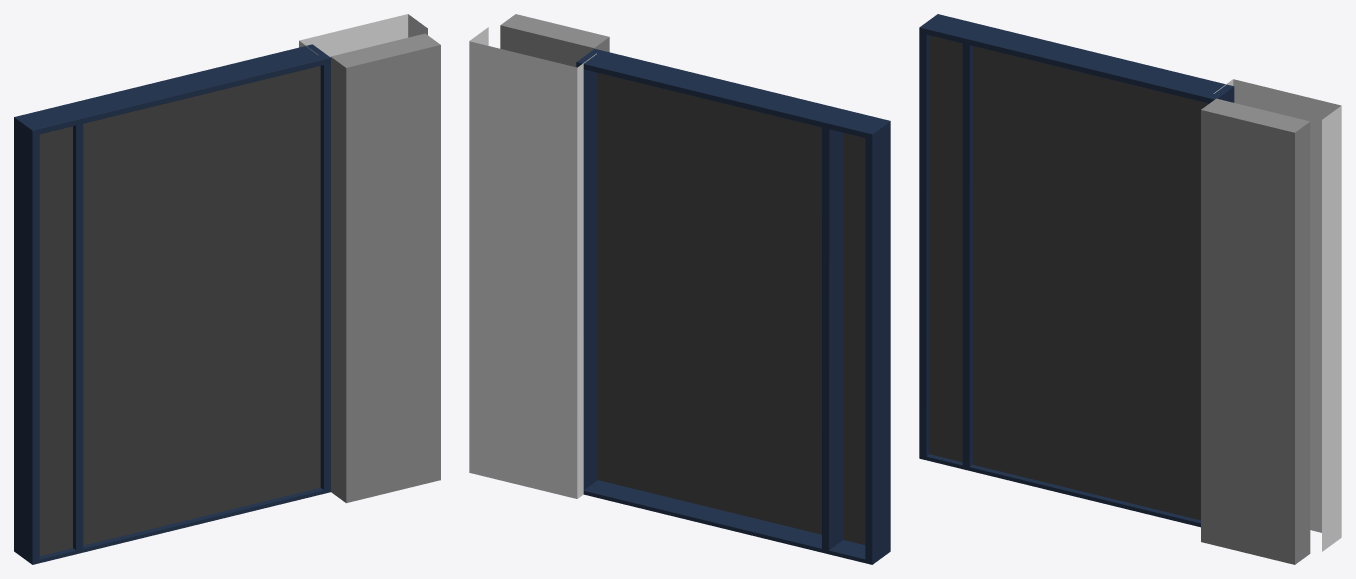
File: window_frame.fbx
3 views of the same model, side by side, from view 1: azimuth 30°, elevation 25°; view 2: azimuth 150°, elevation 25°; view 3: azimuth 330°, elevation 25° (orthographic).
Visible parts, largest first — view 1: Line098; view 2: Line098; view 3: Line098.
Part boxes in pixels (box(x1,y1,x2,y2)): Line098: box(14, 14, 440, 564); Line098: box(469, 14, 890, 564); Line098: box(919, 14, 1341, 564).
Size of the model in its own units: 275 by 286 by 47.39.
